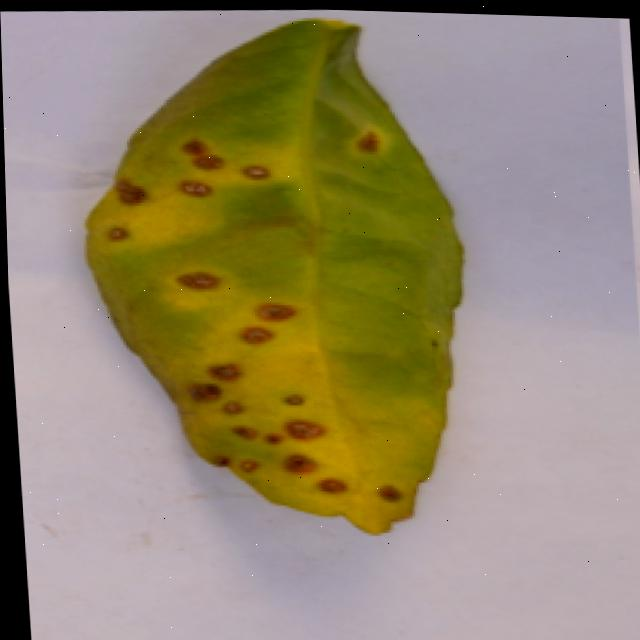canker: (84, 23, 459, 532), (153, 225, 427, 554), (75, 96, 278, 284), (325, 78, 412, 172)
